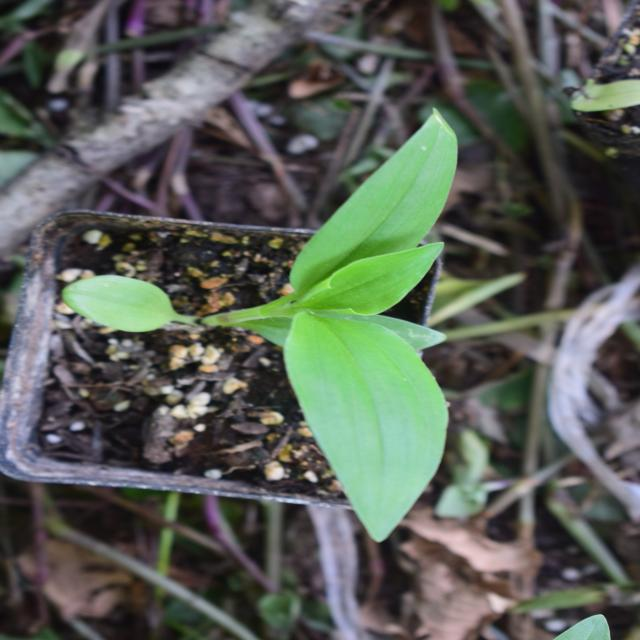Common Dayflower: (108, 224, 530, 506)
